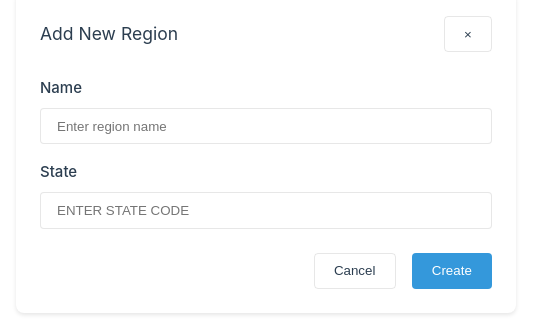
it: RegionForm › Form Controls › disables form controls during submission
Fill out the form
In the field with id "name": (266, 126) [40,108,492,144], type "Test Region"
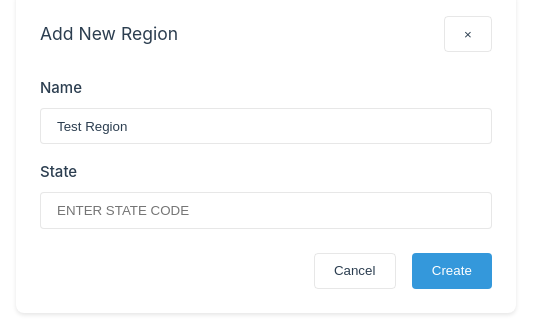
In the field with id "state": (266, 210) [40,192,492,229], type "TS"
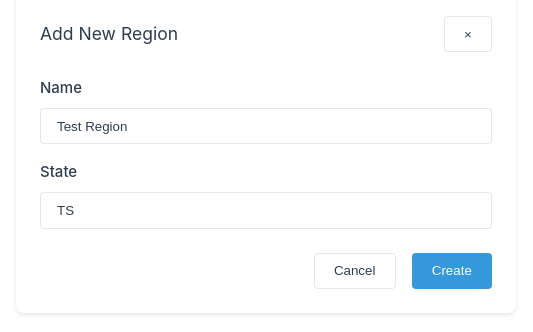
Trigger form submission which should disable controls
Submit the form, box [40,76,492,289]
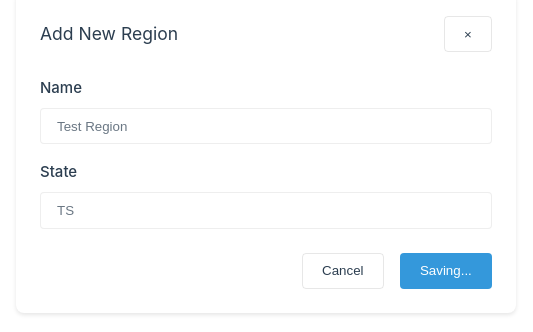
Expected: the button with test id "cancel-form" is shown, [302,253,384,289]
Now the button with test id "submit-form" reads "Saving...", box [400,253,492,289]
